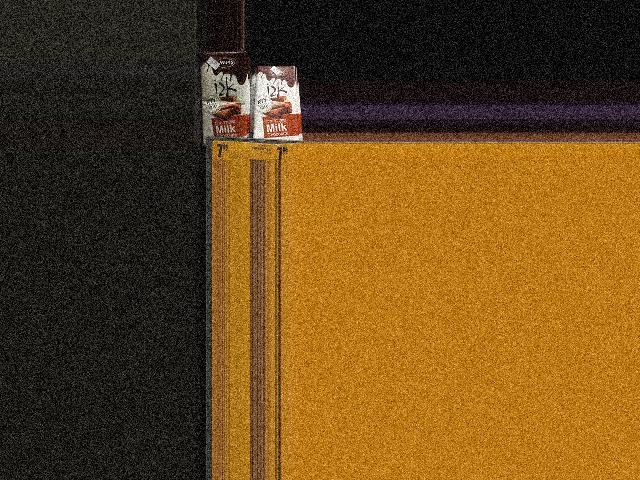chocolate: (253, 63, 306, 150)
